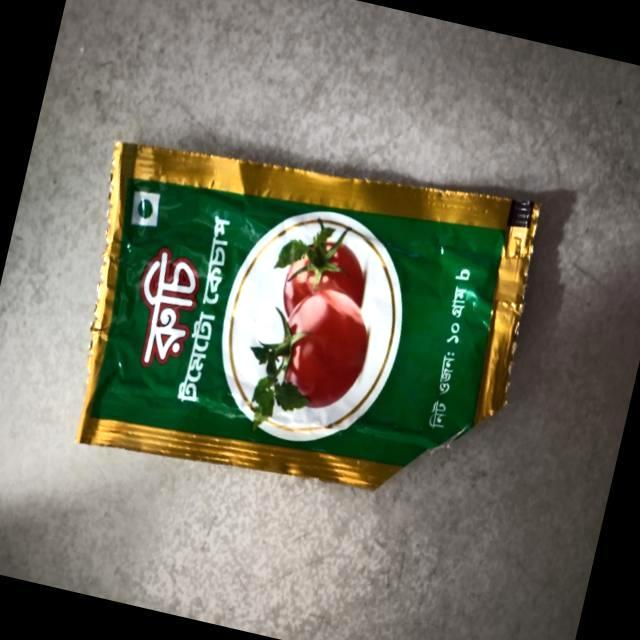packet: (99, 193, 533, 442)
